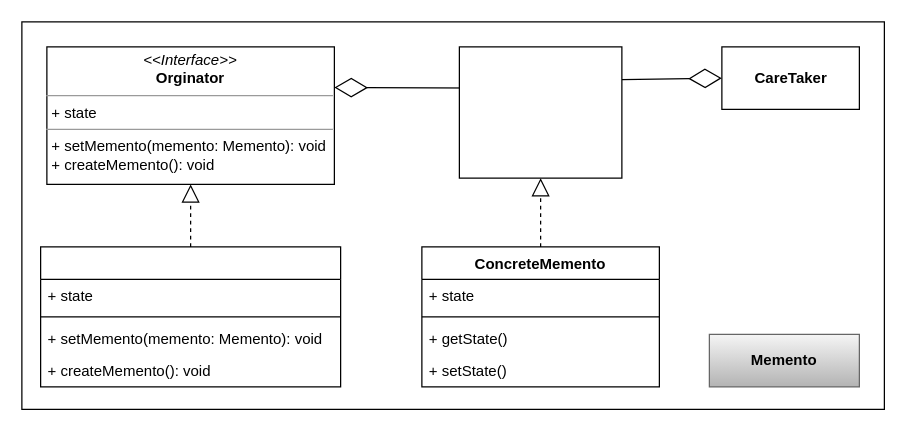
Image size: 906x431. Some labels were removed from this diagram. The box of each missing label's shape, as (x1, y1, x2, y2) in pixels:
<<Interface>> Memento + state + getState() + setState(): (458, 46, 622, 178)
ConcreteOrginator: (39, 246, 341, 387)
